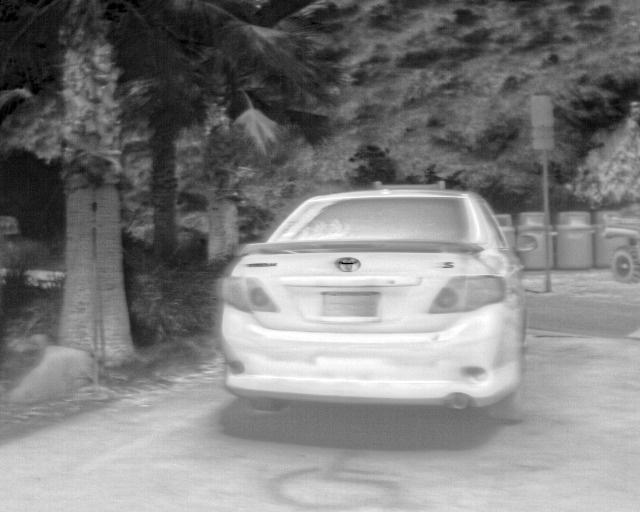car: (214, 188, 526, 422)
